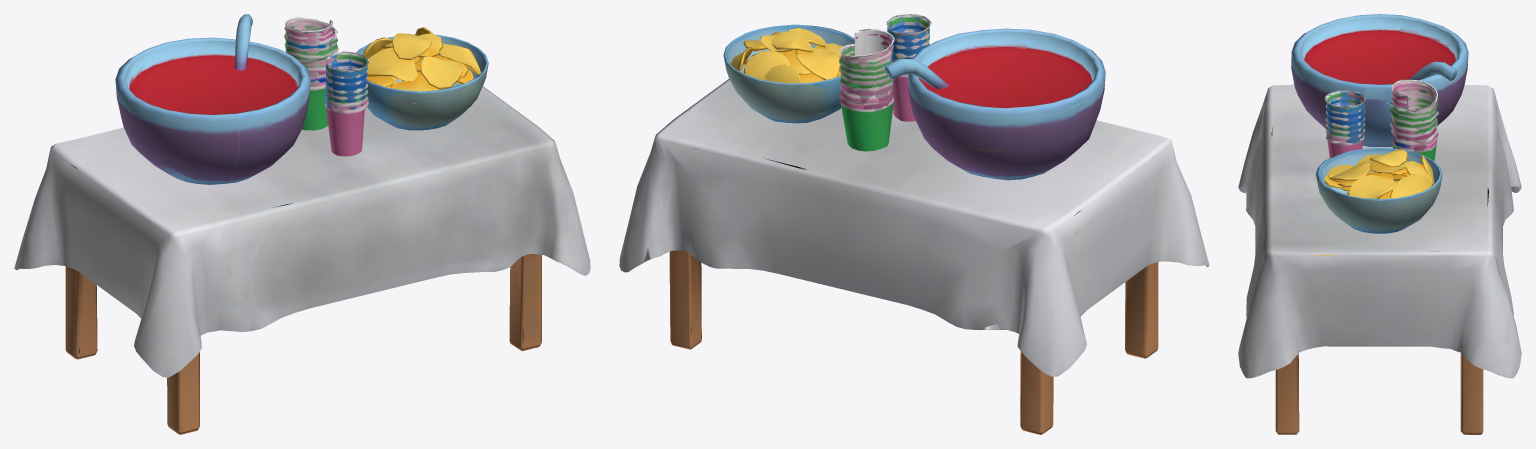
File: dance_snacks.glb
3 views of the same model, side by side, from view 1: azimuth 30°, elevation 25°; view 2: azimuth 150°, elevation 25°; view 3: azimuth 270°, elevation 25° (orthographic). The views are drawn at different scales.
Visible parts, largest first — view 1: geometry_0; view 2: geometry_0; view 3: geometry_0.
Boxes of the visible parts, x1,y1,x2,y2 form: geometry_0: (14, 14, 590, 434); geometry_0: (619, 14, 1209, 434); geometry_0: (1238, 14, 1521, 434).
Size of the model in its own units: 0.9497 by 0.6372 by 0.5786.
Materials: 1 (1 with a texture image).
